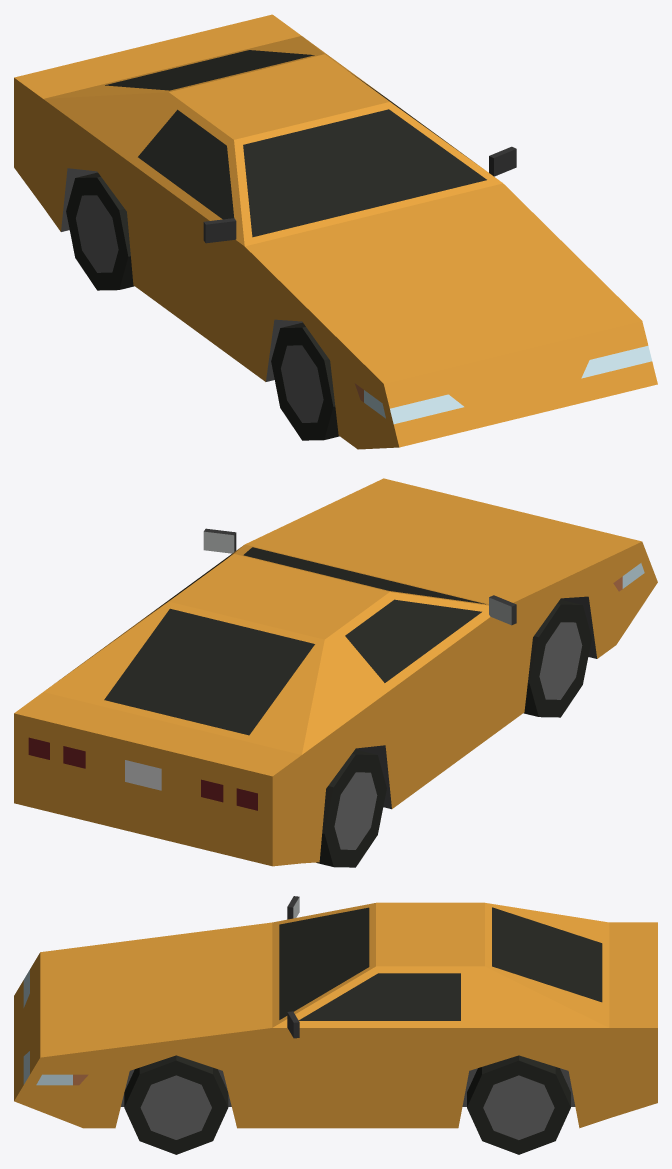
The model's file is Veh_Sports_Car_01_Yellow.glb.
3 views of the same model, one above another, from view 1: azimuth 30°, elevation 25°; view 2: azimuth 150°, elevation 25°; view 3: azimuth 270°, elevation 25° (orthographic). The views are drawn at different scales.
Visible parts, largest first — view 1: Sports_Car_01_Yellow, Wheel_RR, Wheel_FR; view 2: Sports_Car_01_Yellow, Wheel_RR, Wheel_FR; view 3: Sports_Car_01_Yellow, Wheel_RL, Wheel_FL.
Part boxes in pixels (box(x1,y1,x2,y2)): Sports_Car_01_Yellow: box(14, 14, 657, 449); Wheel_RR: box(66, 172, 134, 290); Wheel_FR: box(271, 322, 339, 440); Sports_Car_01_Yellow: box(14, 478, 657, 866); Wheel_RR: box(316, 749, 386, 867); Wheel_FR: box(523, 599, 591, 717); Sports_Car_01_Yellow: box(14, 896, 657, 1128); Wheel_RL: box(467, 1055, 570, 1154); Wheel_FL: box(124, 1055, 228, 1154).
Size of the model in its own units: 1.13 by 0.6973 by 2.43.
Materials: 1 (1 with a texture image).
